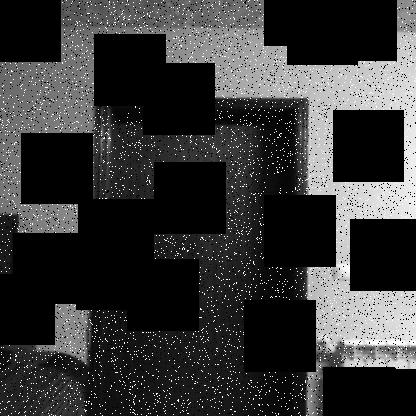Porte: (88, 96, 307, 415)
